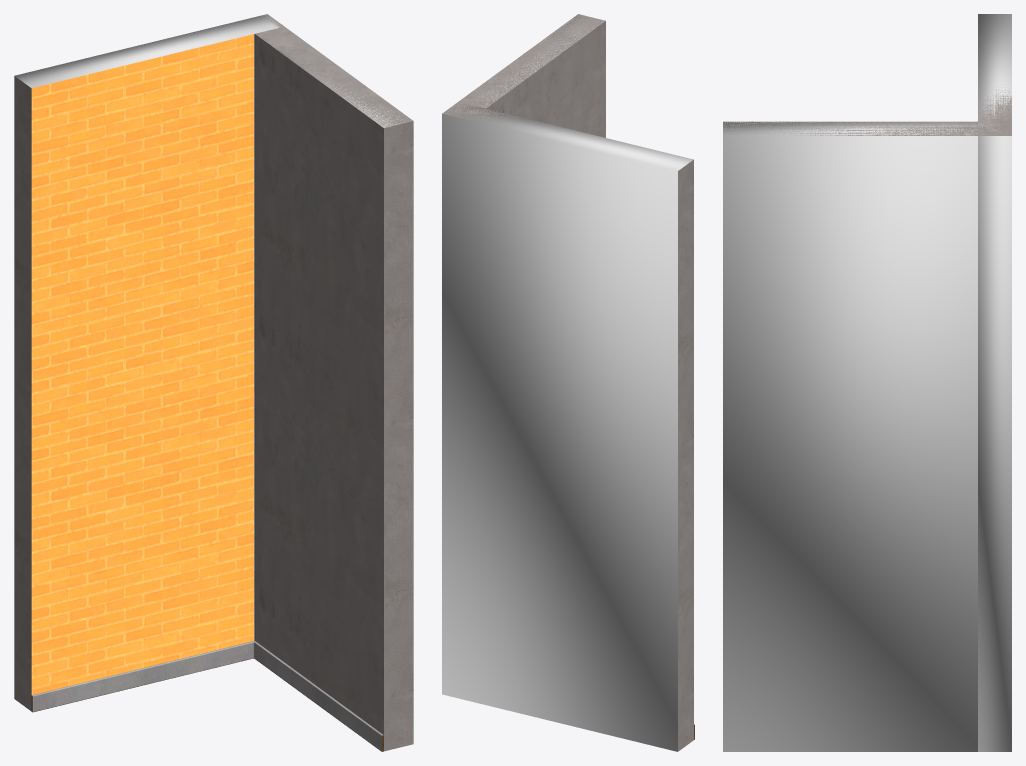
The model's file is SM_Wall_CornerIn_1_5x3_5_01a2.fbx.
3 renders of one model, left to right at view 1: azimuth 30°, elevation 25°; view 2: azimuth 150°, elevation 25°; view 3: azimuth 270°, elevation 25°, orthographic. The views are drawn at different scales.
Parts seen in each view (by area): view 1: SM_Wall_CornerIn_1_5x3_5_01a2, SM_Wall_CornerIn_1_5x3_5_01a_ConvexHulls; view 2: SM_Wall_CornerIn_1_5x3_5_01a_ConvexHulls, SM_Wall_CornerIn_1_5x3_5_01a2; view 3: SM_Wall_CornerIn_1_5x3_5_01a_ConvexHulls, SM_Wall_CornerIn_1_5x3_5_01a2.
Boxes of the visible parts, x1,y1,x2,y2 form: SM_Wall_CornerIn_1_5x3_5_01a2: [14, 14, 413, 751]; SM_Wall_CornerIn_1_5x3_5_01a_ConvexHulls: [14, 14, 405, 127]; SM_Wall_CornerIn_1_5x3_5_01a_ConvexHulls: [442, 14, 693, 751]; SM_Wall_CornerIn_1_5x3_5_01a2: [442, 14, 694, 751]; SM_Wall_CornerIn_1_5x3_5_01a_ConvexHulls: [723, 14, 1011, 751]; SM_Wall_CornerIn_1_5x3_5_01a2: [723, 87, 1011, 135].
Size of the model in its own units: 170 by 400 by 170.
